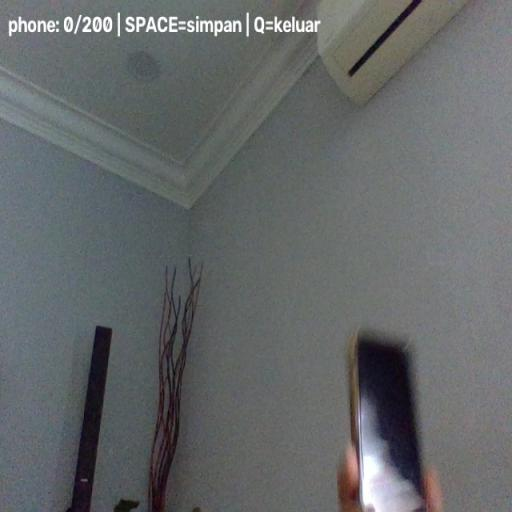Phone: (347, 324, 432, 512)
